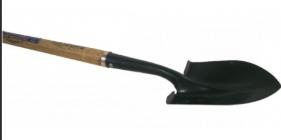PELLE: (0, 23, 281, 140)
